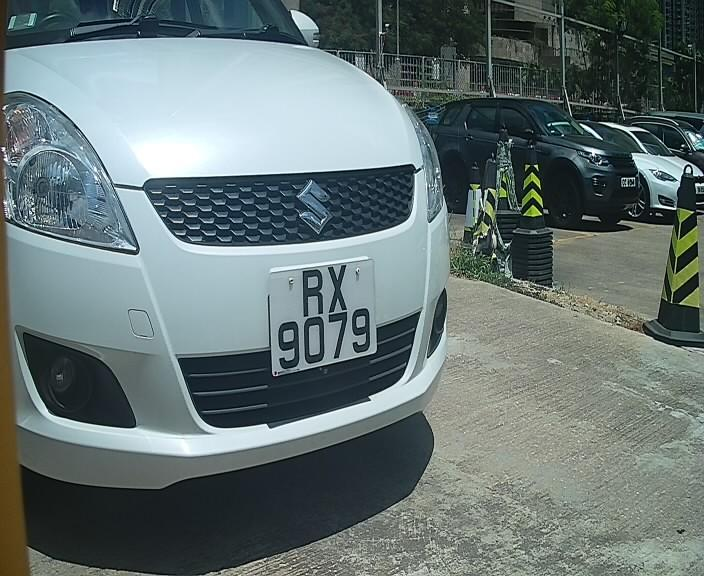privatecar: (4, 21, 478, 484)
